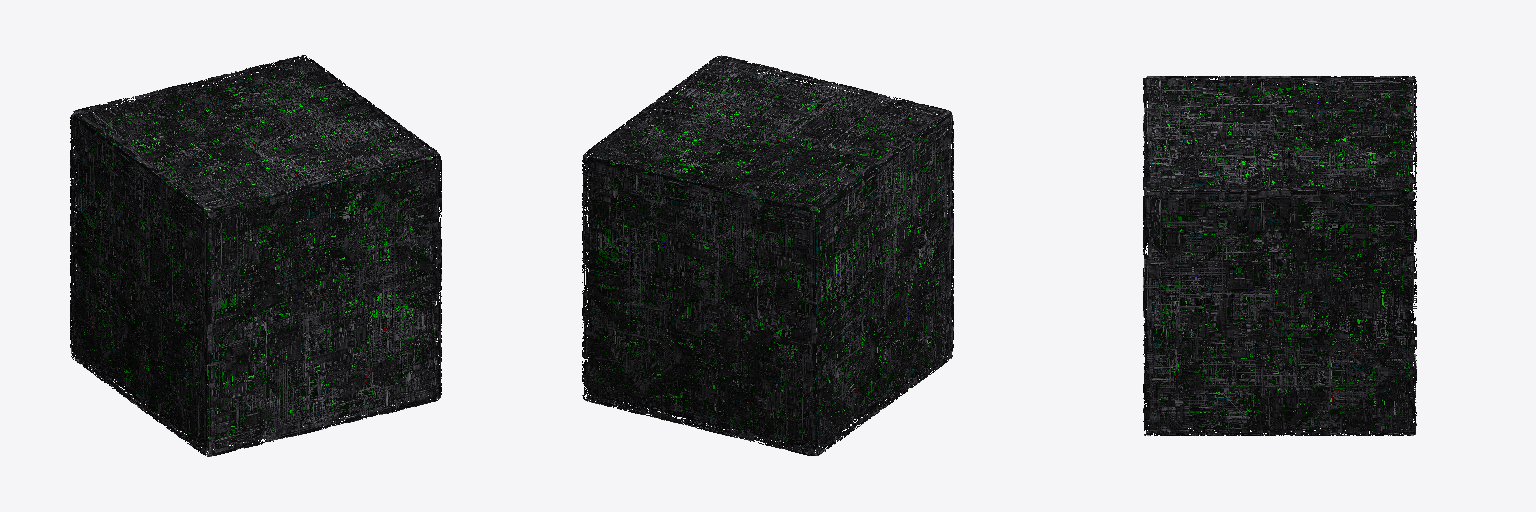
3 views of the same model, side by side, from view 1: azimuth 30°, elevation 25°; view 2: azimuth 150°, elevation 25°; view 3: azimuth 270°, elevation 25° (orthographic).
Parts seen in each view (by area): view 1: box_box.mesh, box.001_box.mesh.001, box.002_box.mesh.002; view 2: box_box.mesh, box.001_box.mesh.001, box.002_box.mesh.002; view 3: box_box.mesh, box.001_box.mesh.001, box.002_box.mesh.002.
Boxes of the visible parts, <box> form: box_box.mesh: <box>70,55,441,456</box>; box.001_box.mesh.001: <box>76,64,435,448</box>; box.002_box.mesh.002: <box>79,68,432,444</box>; box_box.mesh: <box>582,55,953,455</box>; box.001_box.mesh.001: <box>588,64,947,448</box>; box.002_box.mesh.002: <box>591,69,944,441</box>; box_box.mesh: <box>1143,76,1416,435</box>; box.001_box.mesh.001: <box>1149,82,1410,429</box>; box.002_box.mesh.002: <box>1151,85,1408,426</box>.
Bounding box in the file's own units: 4.79 × 4.81 × 4.83.
2 materials, 2 textured.